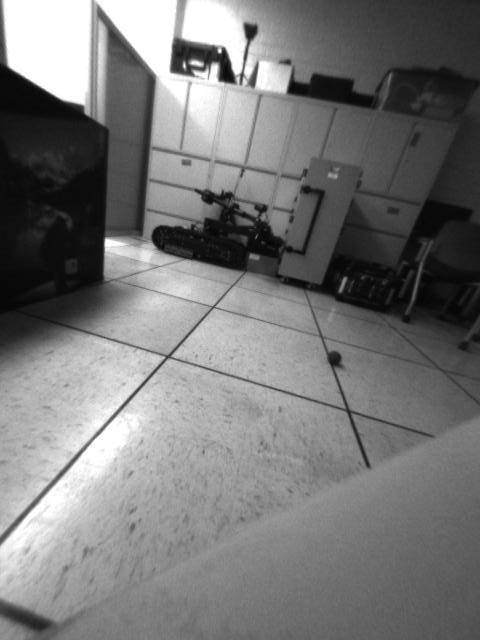dogtoy: (321, 343, 348, 371)
